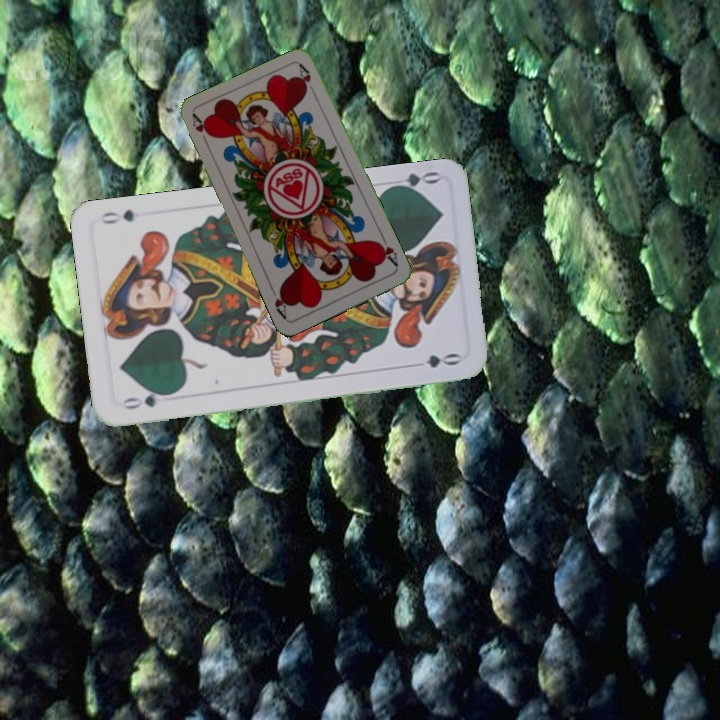GO: (383, 167, 442, 196), (117, 387, 175, 412)
HA: (373, 232, 401, 269), (188, 111, 213, 149)
